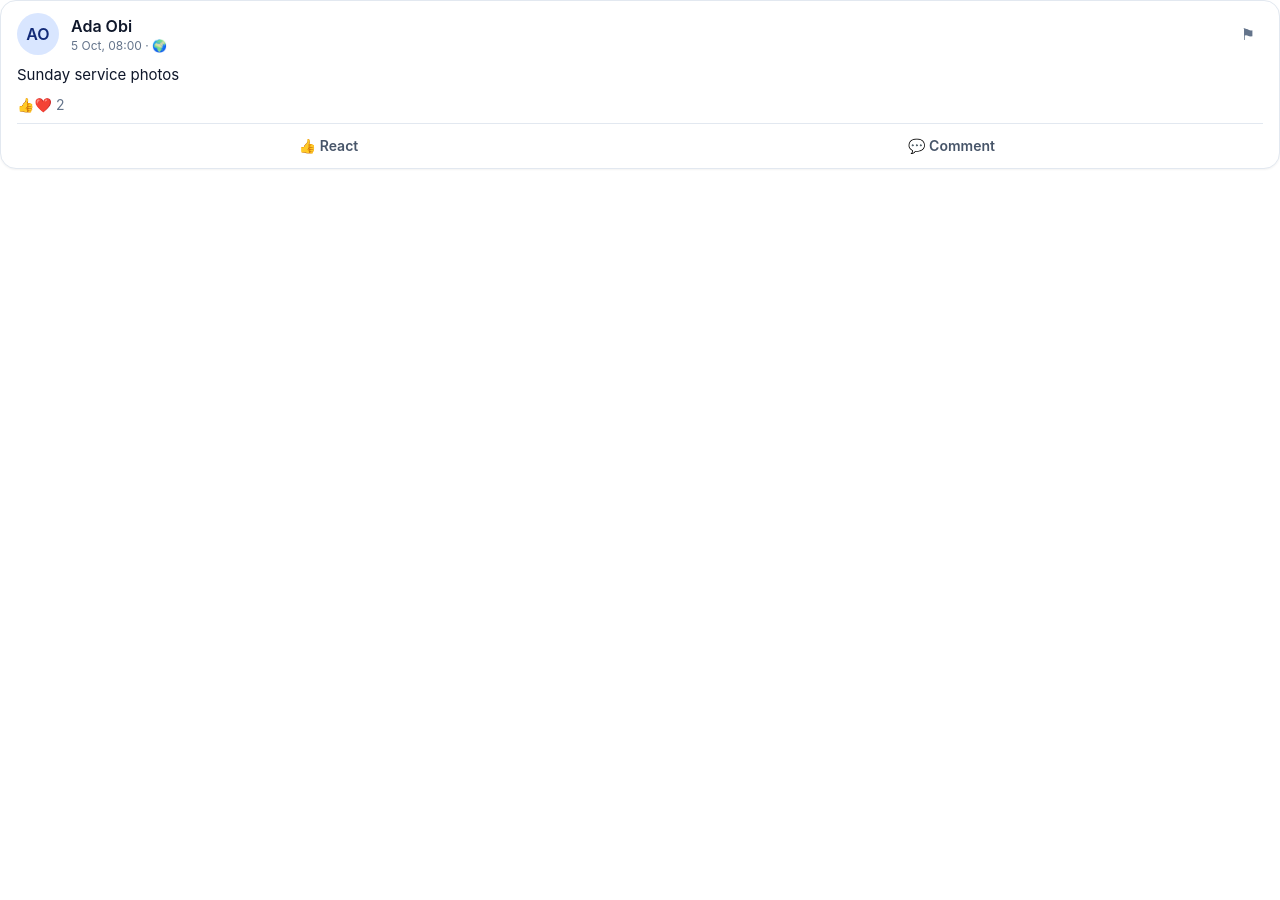
Who reacted to a post › lists everyone with their reaction, with a tab per reaction
Step 1. Click the button named "2 reactions — see who" → (41, 105), box [17,95,64,115]
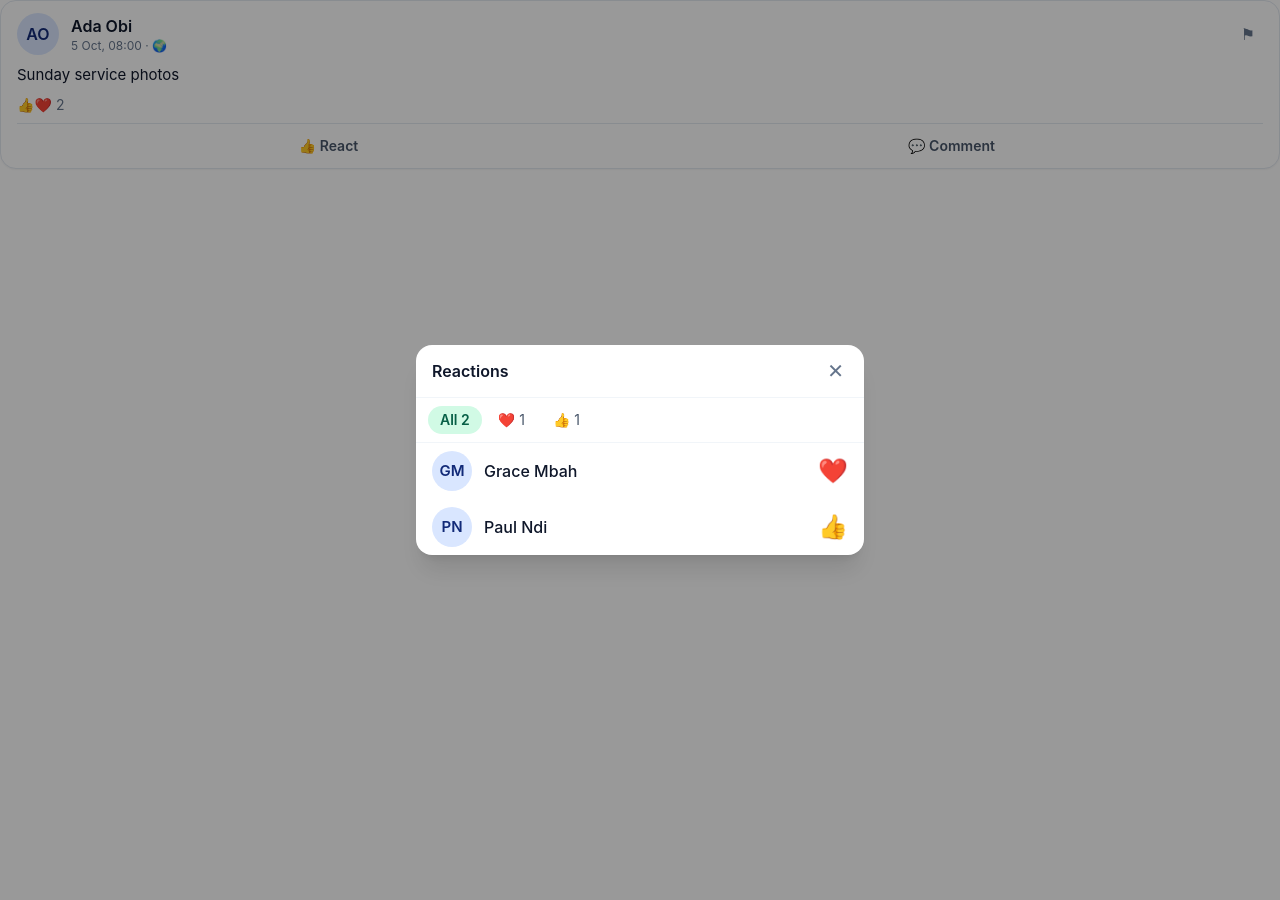
Expected: the text "Grace Mbah" is shown, [484,461,577,481]
Expected: the text "Paul Ndi" is shown, [484,517,547,537]
Step 2. Click the tab "❤️ 1" → (511, 420), box [486,406,537,434]
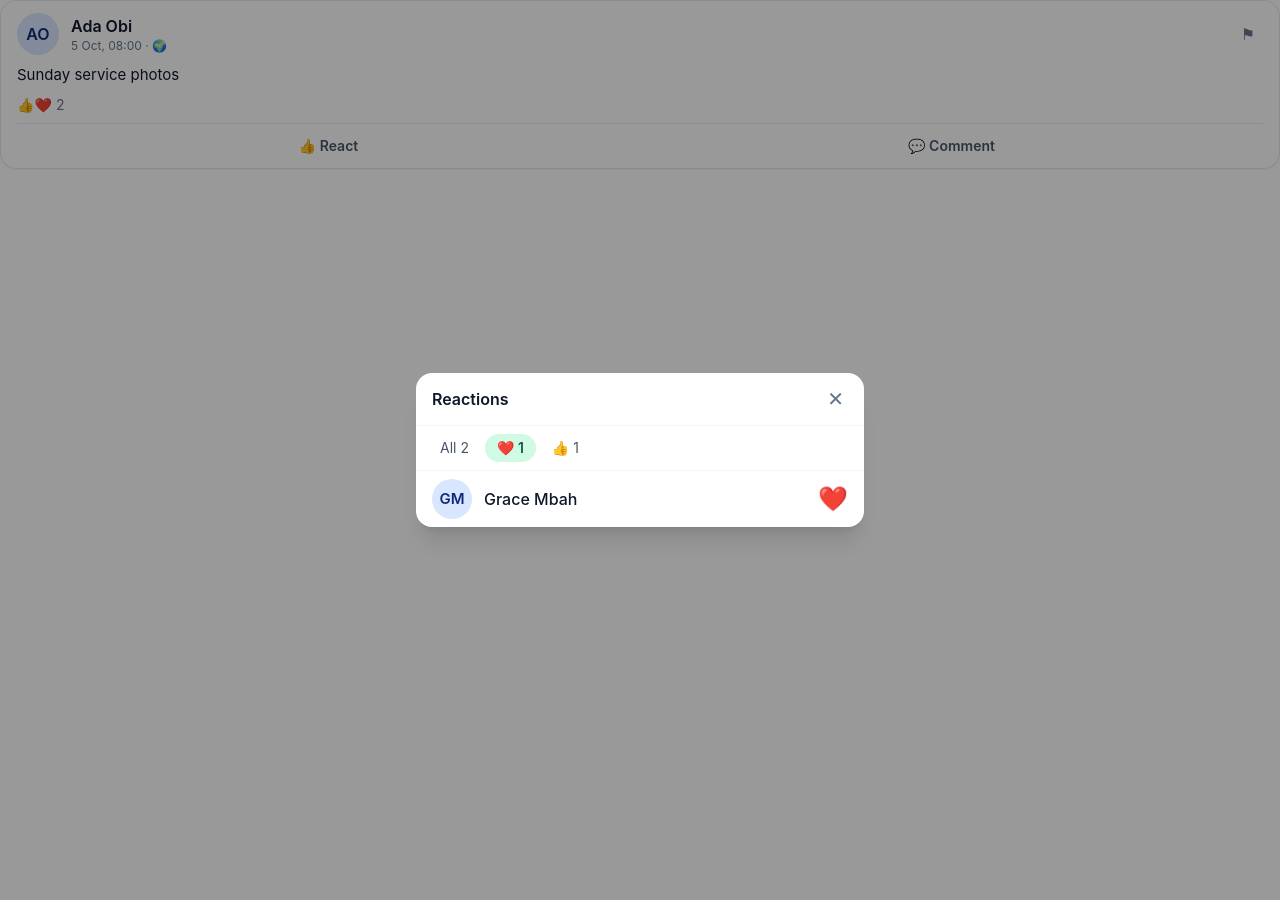
Expected: the text "Grace Mbah" is shown, [484,489,577,509]
Expected: the text "Paul Ndi" is gone
Step 3. Click the button named "Close" → (836, 399), box [823,385,848,413]
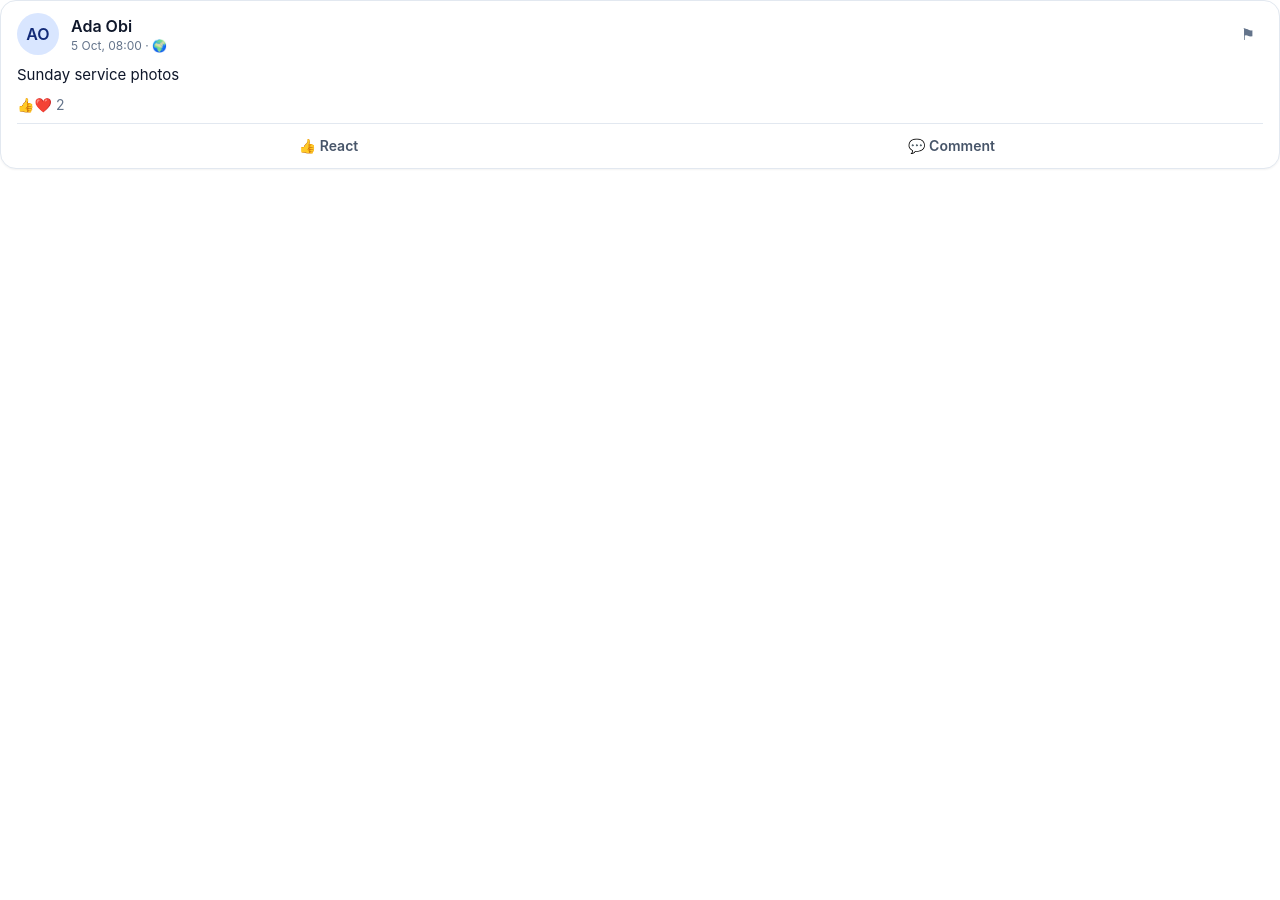
Expected: the heading "Reactions" is gone
